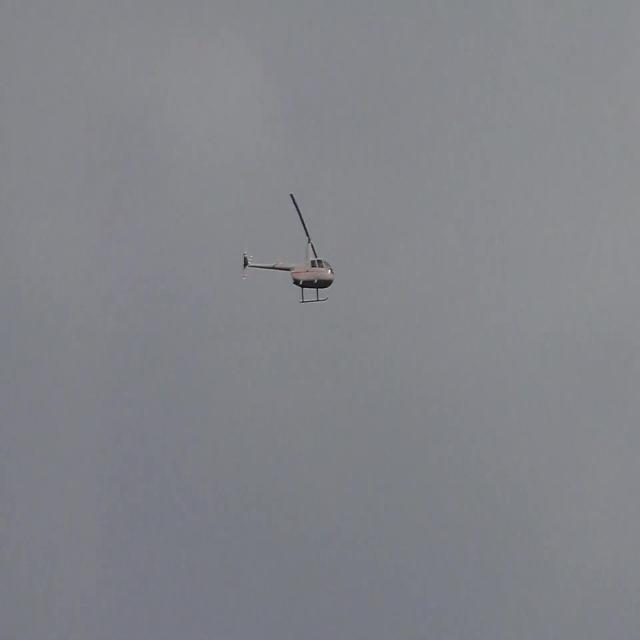CIV_HELO: (242, 237, 334, 304)
